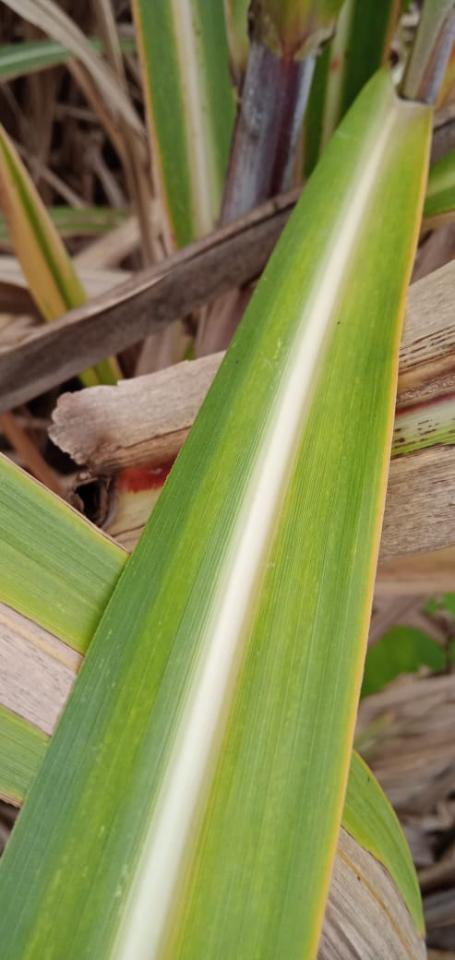Yellow: (306, 105, 432, 959)
